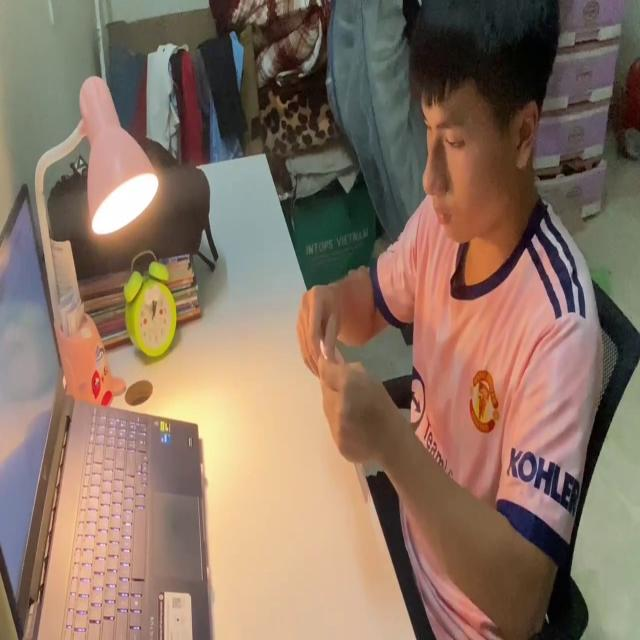laptop: (3, 178, 215, 640)
student: (296, 0, 602, 640)
